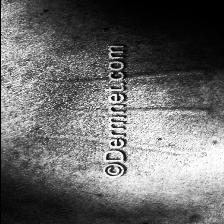Toxin: (23, 44, 103, 184), (128, 45, 212, 175)
